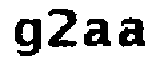2: (46, 4, 78, 52)
a: (82, 18, 114, 50), (117, 17, 149, 49)
g: (10, 18, 46, 60)
